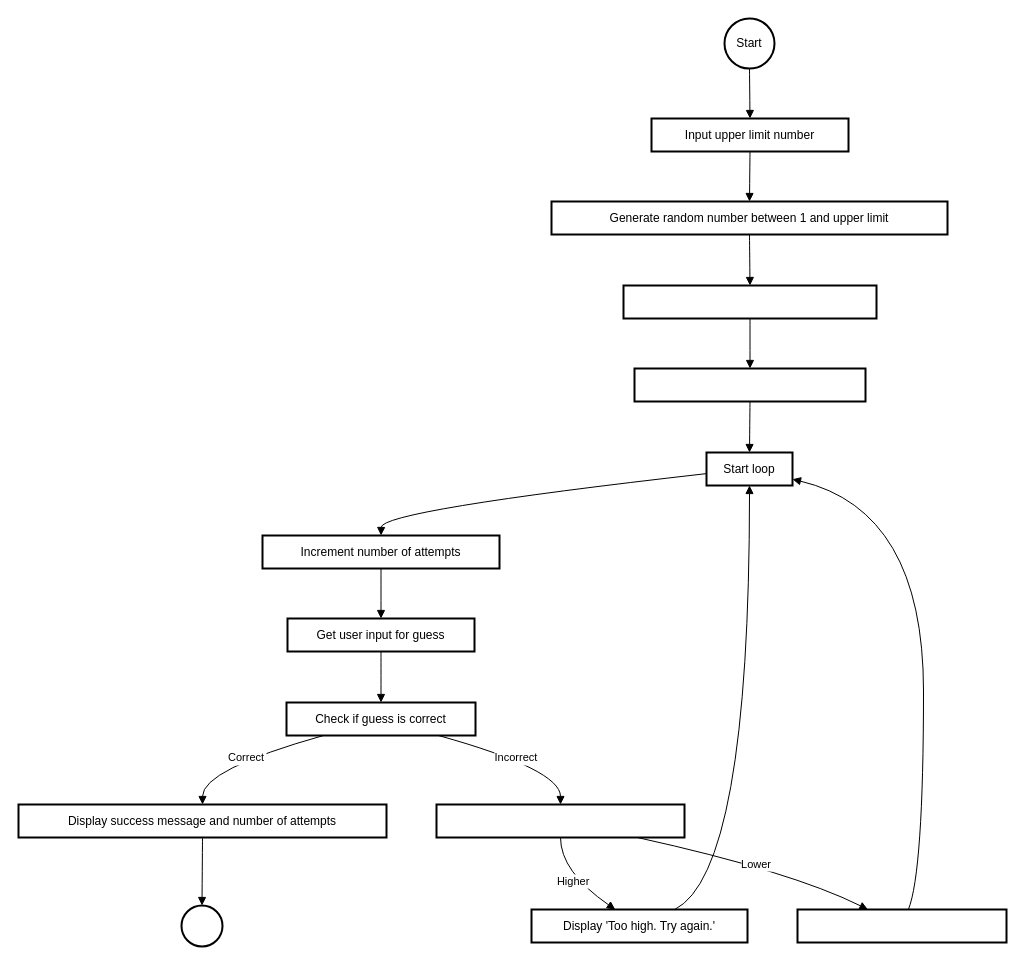
This 1024x964 diagram has some shape labels left out. Each missing label, with the centre of its shape:
Check if guess is higher or lower: the point at 560,820
Display 'Too low. Try again.': the point at 901,925
End: the point at 201,925
Initialize guessed number to 0: the point at 749,384
Initialize number of attempts = 0: the point at 749,301
